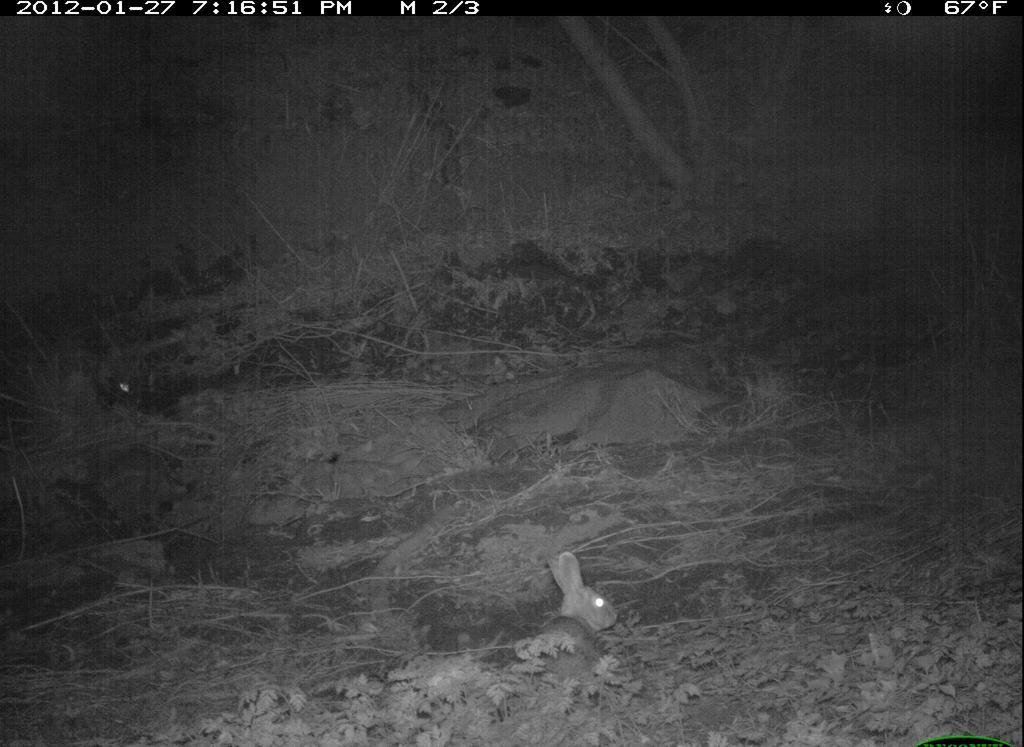rabbit: (537, 546, 621, 688)
